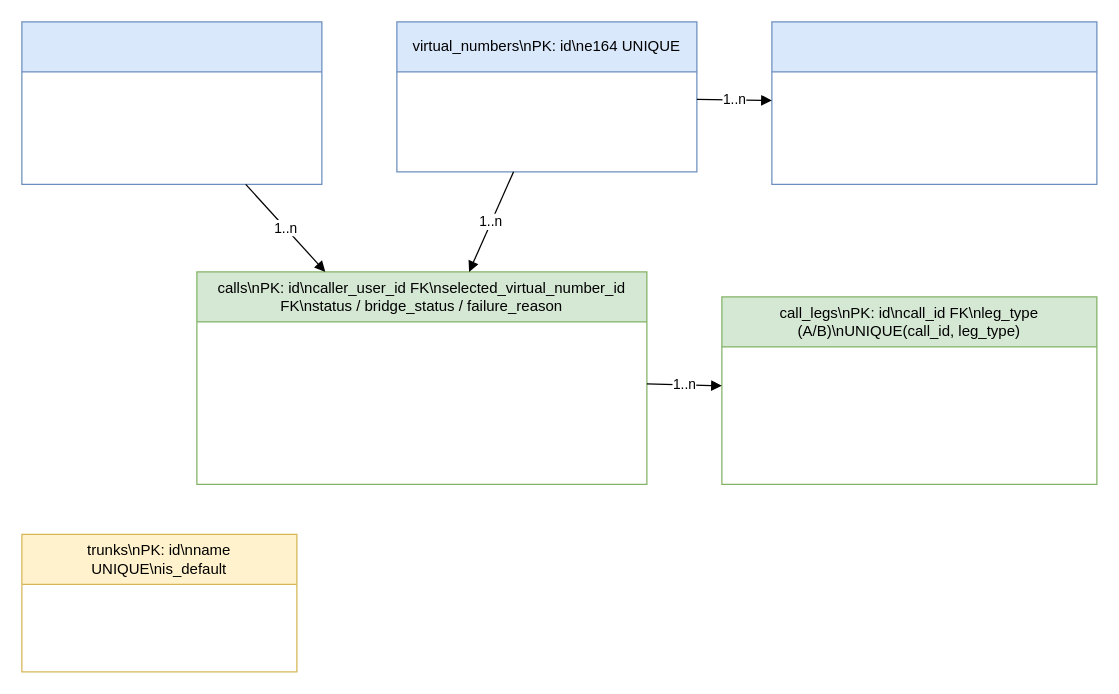
The diagram is 1119 pixels wide and 694 high, and some of its shapes have lost their labels. Here are the shapes that lost their labels. From the top down, the centre of each, then its label:
(171,102): users\nPK: id\nreal_e164 UNIQUE\ncaller_endpoint UNIQUE
(934,102): id_mappings\nPK: id\ncallee_e164 UNIQUE\nvirtual_number_id FK
